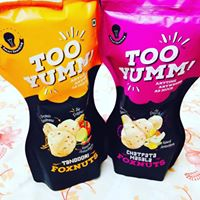plastic: (1, 2, 120, 181), (101, 3, 198, 179)
tooyumm: (24, 42, 88, 87), (119, 44, 192, 82)
wrapper: (27, 4, 101, 161), (117, 1, 170, 172)
